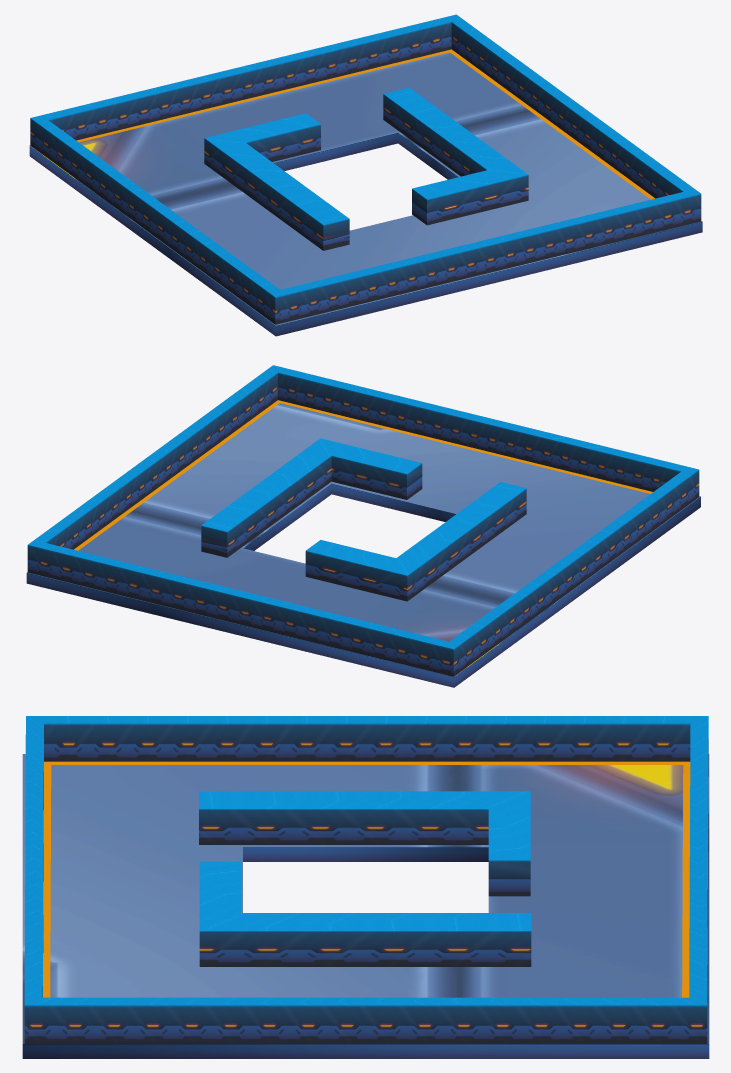
File: Duel_Stage 54.fbx
3 renders of one model, top to bottom at view 1: azimuth 30°, elevation 25°; view 2: azimuth 150°, elevation 25°; view 3: azimuth 270°, elevation 25°, orthographic. The views are drawn at different scales.
Parts seen in each view (by area): view 1: DB_Platform_Cube_Floor.019, DB_Platform_Cube_Floor__4_, DB_Platform_Cube_Floor.017, DB_Platform_Cube_Floor.013, DB_Platform_Cube_Floor.020; view 2: DB_Platform_Cube_Floor.019, DB_Platform_Cube_Floor__4_, DB_Platform_Cube_Floor.017, DB_Platform_Cube_Floor.013, DB_Platform_Cube_Floor.020; view 3: DB_Platform_Cube_Floor__4_, DB_Platform_Cube_Floor.019, DB_Platform_Cube_Floor.020, DB_Platform_Cube_Floor.013, DB_Platform_Cube_Floor.017.
Part boxes in pixels (bbox=[...]): DB_Platform_Cube_Floor.019: bbox=[30, 14, 701, 324]; DB_Platform_Cube_Floor__4_: bbox=[29, 52, 702, 336]; DB_Platform_Cube_Floor.017: bbox=[412, 170, 502, 225]; DB_Platform_Cube_Floor.013: bbox=[231, 113, 320, 161]; DB_Platform_Cube_Floor.020: bbox=[76, 49, 654, 199]; DB_Platform_Cube_Floor.019: bbox=[27, 365, 699, 676]; DB_Platform_Cube_Floor__4_: bbox=[26, 403, 700, 687]; DB_Platform_Cube_Floor.017: bbox=[331, 444, 422, 499]; DB_Platform_Cube_Floor.013: bbox=[305, 540, 395, 594]; DB_Platform_Cube_Floor.020: bbox=[74, 400, 652, 550]; DB_Platform_Cube_Floor__4_: bbox=[22, 754, 709, 1058]; DB_Platform_Cube_Floor.019: bbox=[24, 716, 708, 1043]; DB_Platform_Cube_Floor.020: bbox=[43, 761, 690, 997]; DB_Platform_Cube_Floor.013: bbox=[488, 809, 530, 896]; DB_Platform_Cube_Floor.017: bbox=[199, 861, 241, 912].
Bounding box in the file's own units: 4437 × 359 × 4301.
